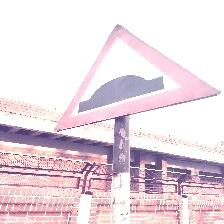Speed-breaker: (55, 21, 215, 139)
